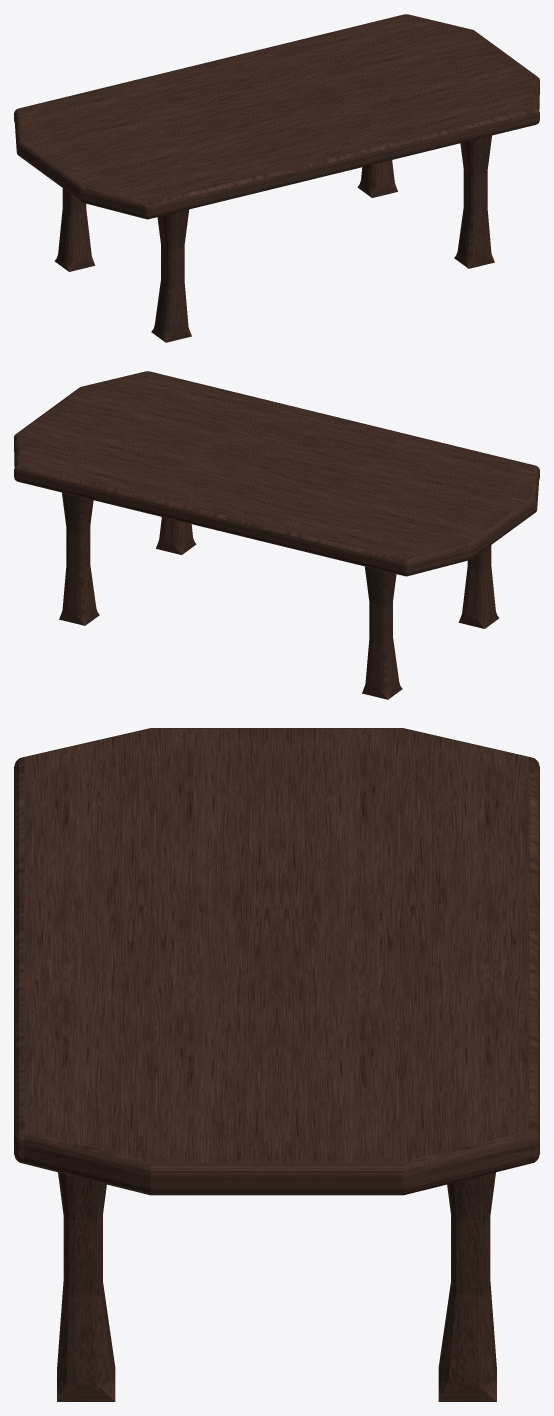
The model's file is table.fbx.
The picture shows the model from 3 angles, top to bottom: view 1: azimuth 30°, elevation 25°; view 2: azimuth 150°, elevation 25°; view 3: azimuth 270°, elevation 25°; orthographic projection. The views are drawn at different scales.
Parts seen in each view (by area): view 1: Cube.003; view 2: Cube.003; view 3: Cube.003.
Boxes of the visible parts, bbox=[...] form: Cube.003: bbox=[14, 14, 539, 342]; Cube.003: bbox=[14, 371, 539, 699]; Cube.003: bbox=[14, 728, 539, 1401].
Bounding box in the file's own units: 674 × 214 × 339.
